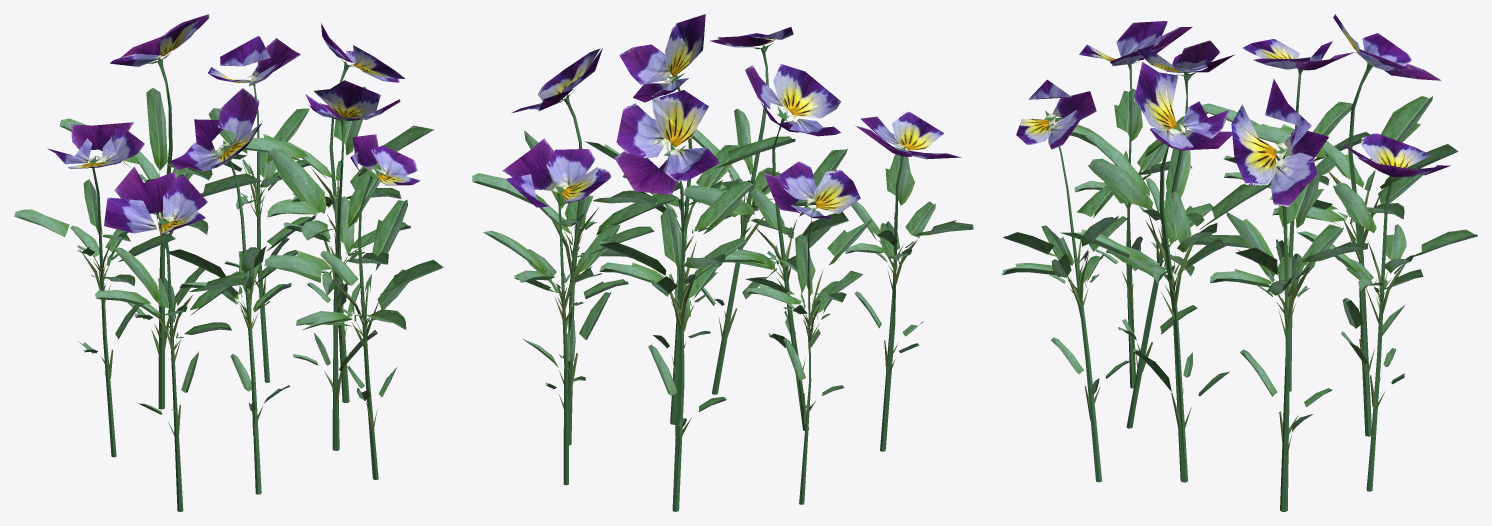
File: sh-scopia-pansy.glb
3 renders of one model, left to right at view 1: azimuth 30°, elevation 25°; view 2: azimuth 150°, elevation 25°; view 3: azimuth 270°, elevation 25°, orthographic. The views are drawn at different scales.
Parts seen in each view (by area): view 1: Trunk.006, PansyFlower.001; view 2: Trunk.006, PansyFlower.001; view 3: Trunk.006, PansyFlower.001.
Part boxes in pixels (left/top/right/bottom): Trunk.006: left=14, top=53, right=443, bottom=511; PansyFlower.001: left=47, top=14, right=420, bottom=233; Trunk.006: left=472, top=43, right=973, bottom=511; PansyFlower.001: left=502, top=14, right=961, bottom=219; Trunk.006: left=1002, top=60, right=1477, bottom=511; PansyFlower.001: left=1016, top=14, right=1450, bottom=206.
Size of the model in its own units: 1 by 0.9721 by 0.9934.
4 materials, 2 textured.
